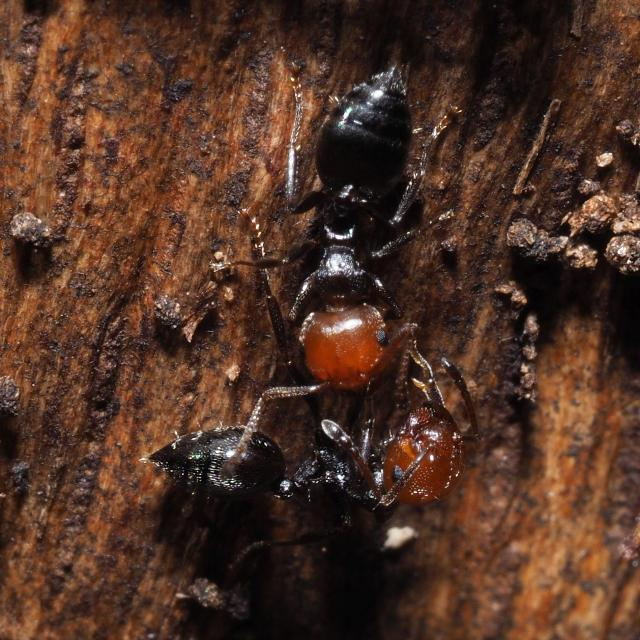Crematogaster: (280, 44, 418, 406)
